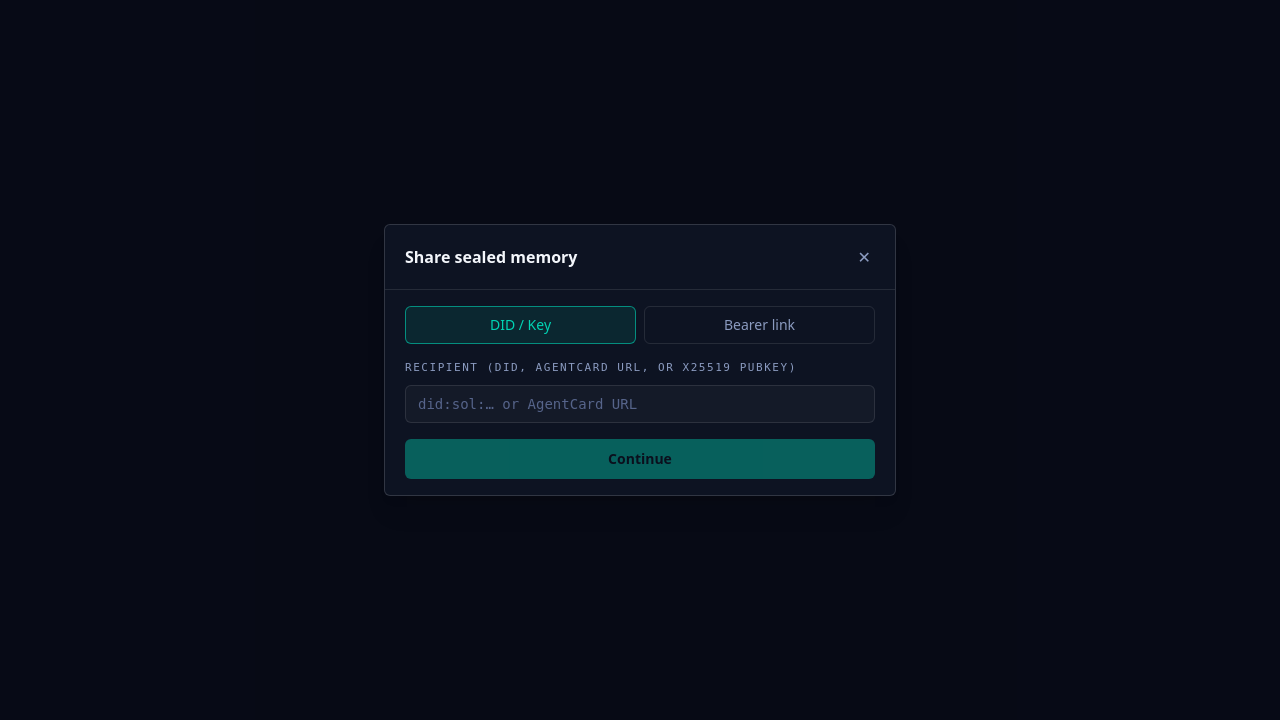
Test case: ShareDialog › shows_no_revocation_warning_after_proceed_in_did_mode
In the field with test id "share-recipient-input": [640, 404] box [405,385,875,423], type "did:sol:Recipient123"
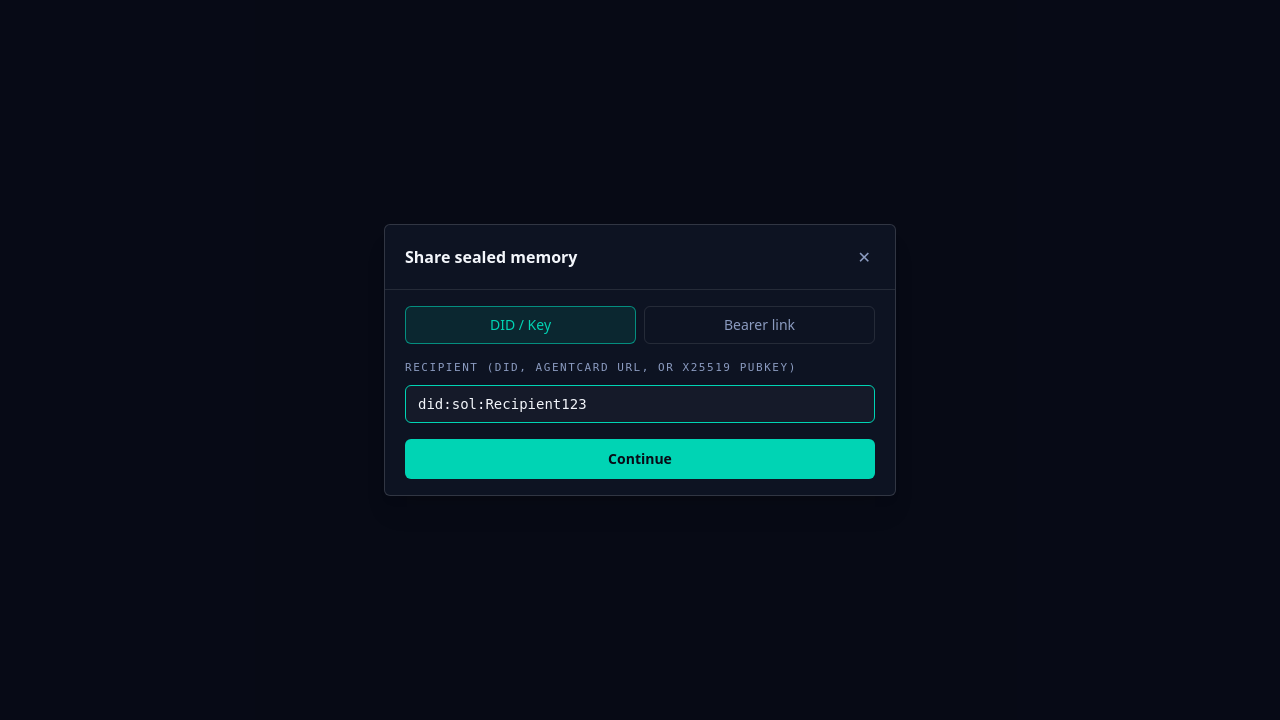
Click the button with test id "share-proceed": [640, 459] box [405,439,875,479]
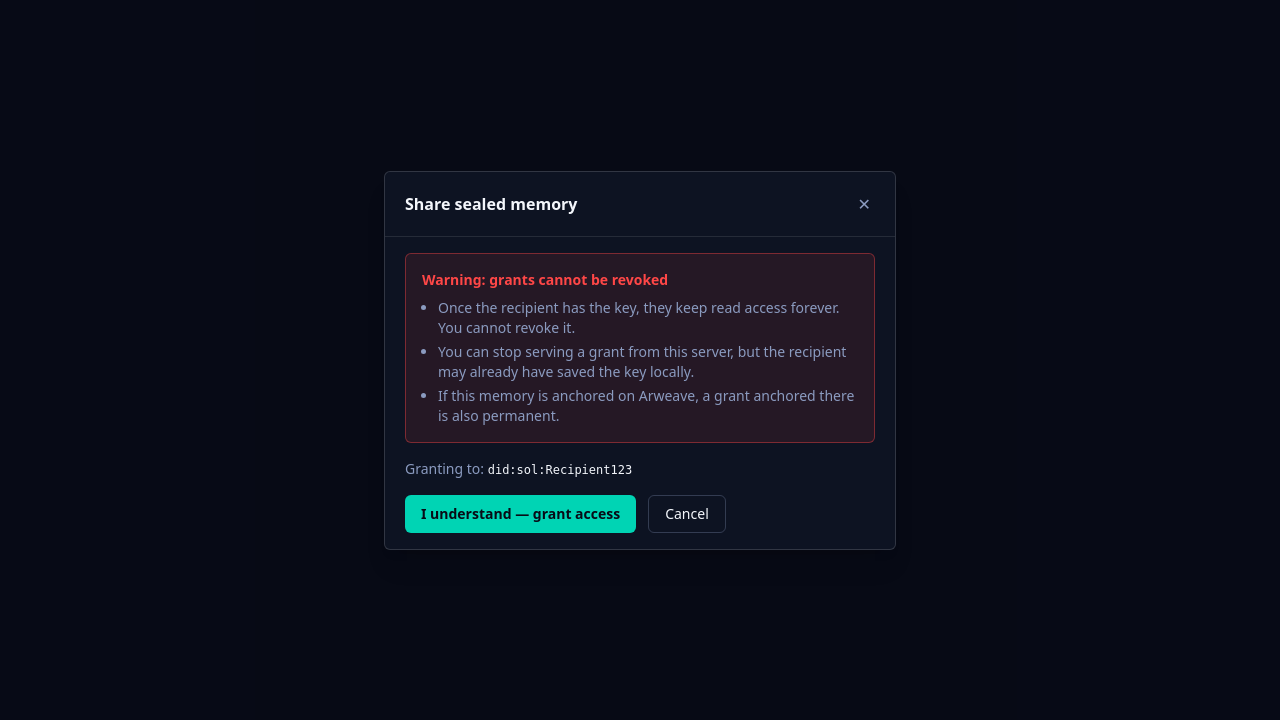
Expected: the element with test id "share-warn" is shown, [405,252,875,532]
Expected: the text "Warning: grants cannot be revoked" is shown, [422,270,668,288]
Expected: the list item "Once the recipient has the key" is shown, [438,298,840,336]
